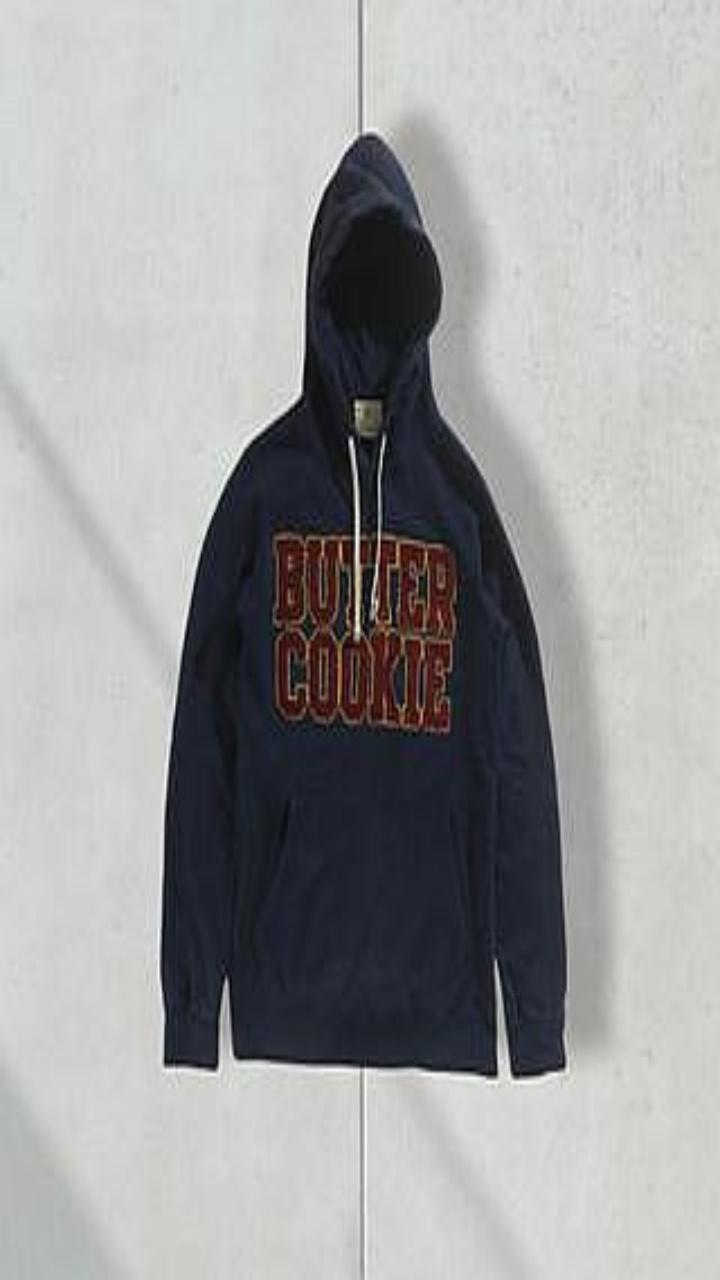Hoodie: (161, 133, 565, 1075)
